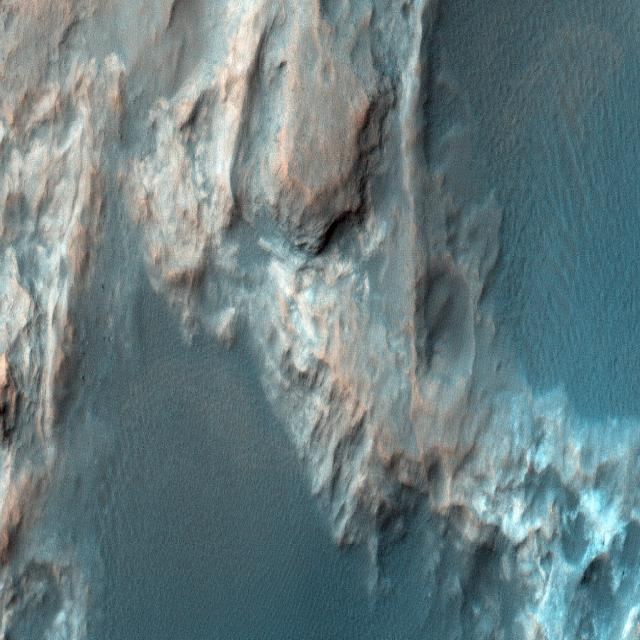Crater: (407, 0, 640, 434)
